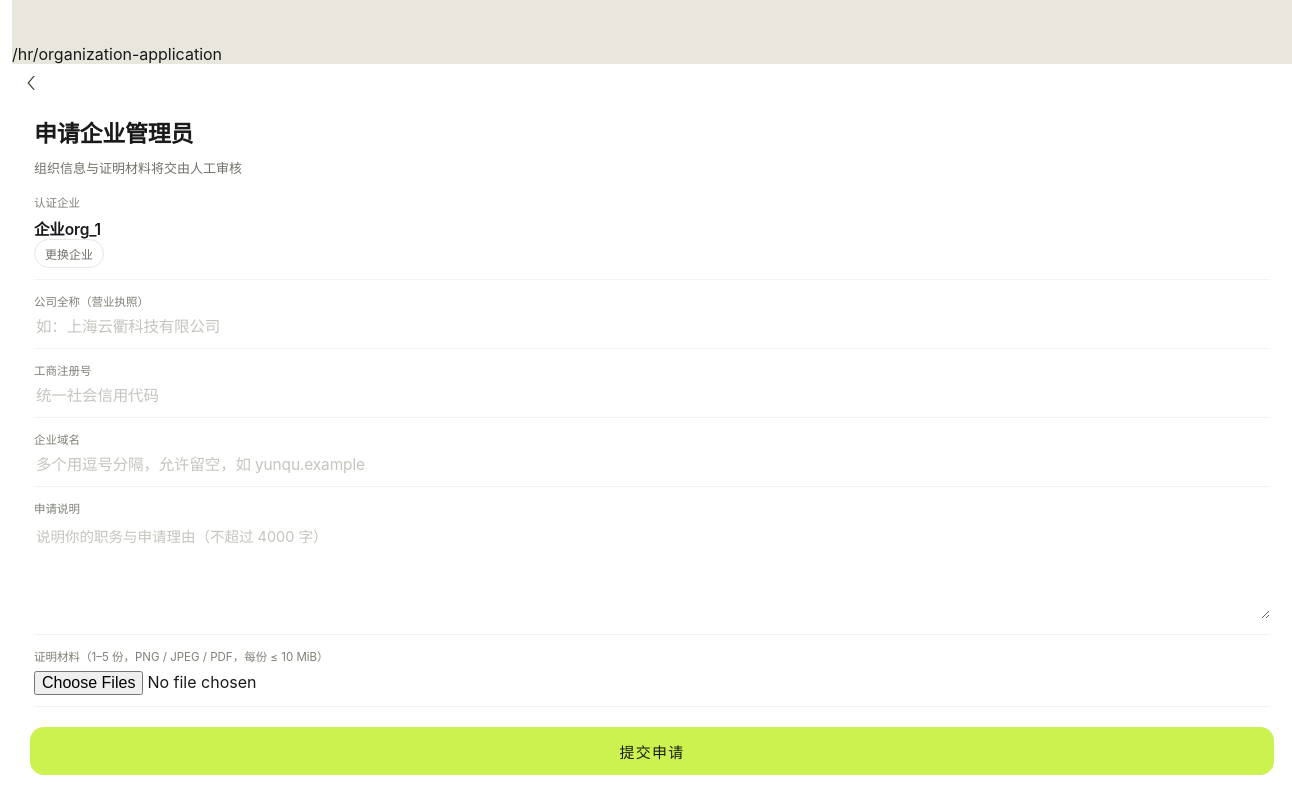
企业组织申请 · 必填与冻结边界 › 四项必填与 evidence 缺失时不调 operation，逐槽提示；域名允许为空不再必填
(page scrolled)
Click the button "提交申请" at [652, 751], box [30,727,1274,775]
(page scrolled)
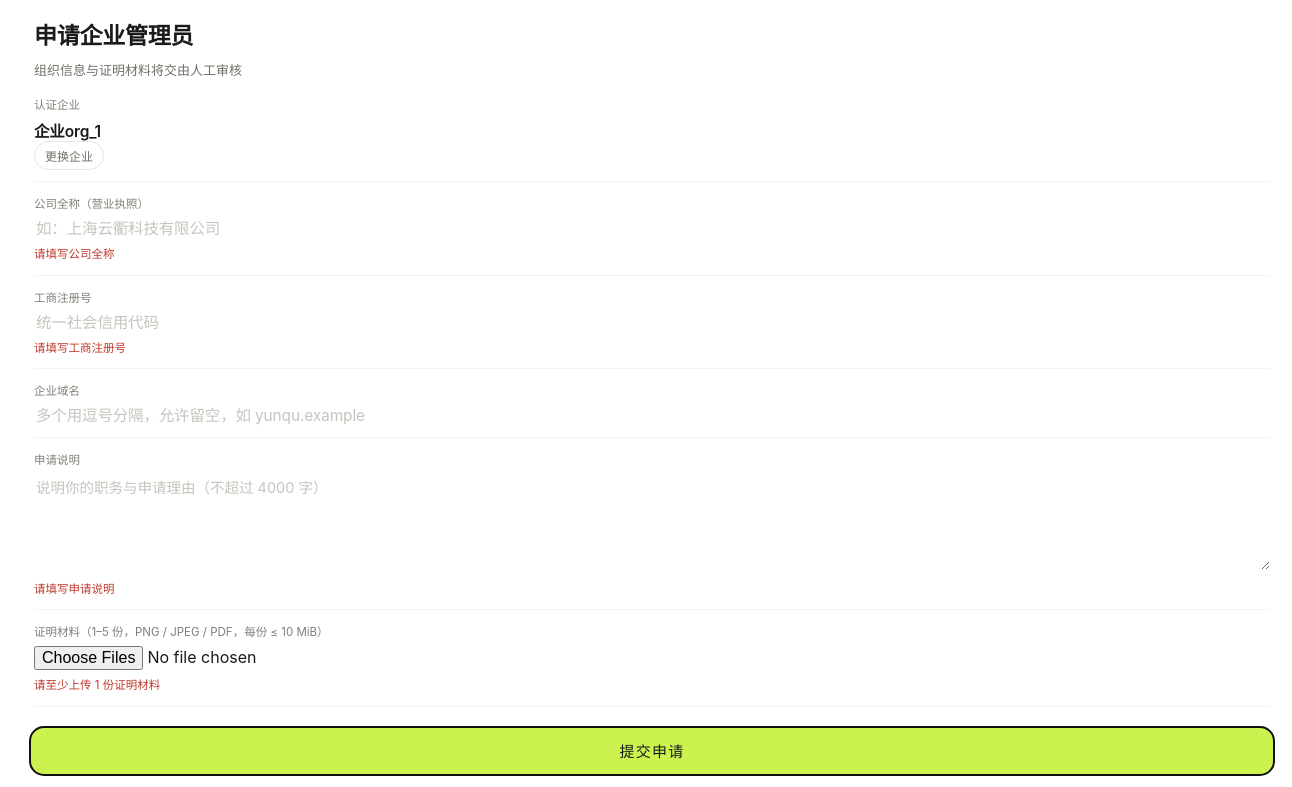
Expected: the text "请填写公司全称" is shown, [34,247,114,261]
Expected: the text "请填写工商注册号" is shown, [34,341,126,355]
Expected: the text "请填写申请说明" is shown, [34,582,114,596]
